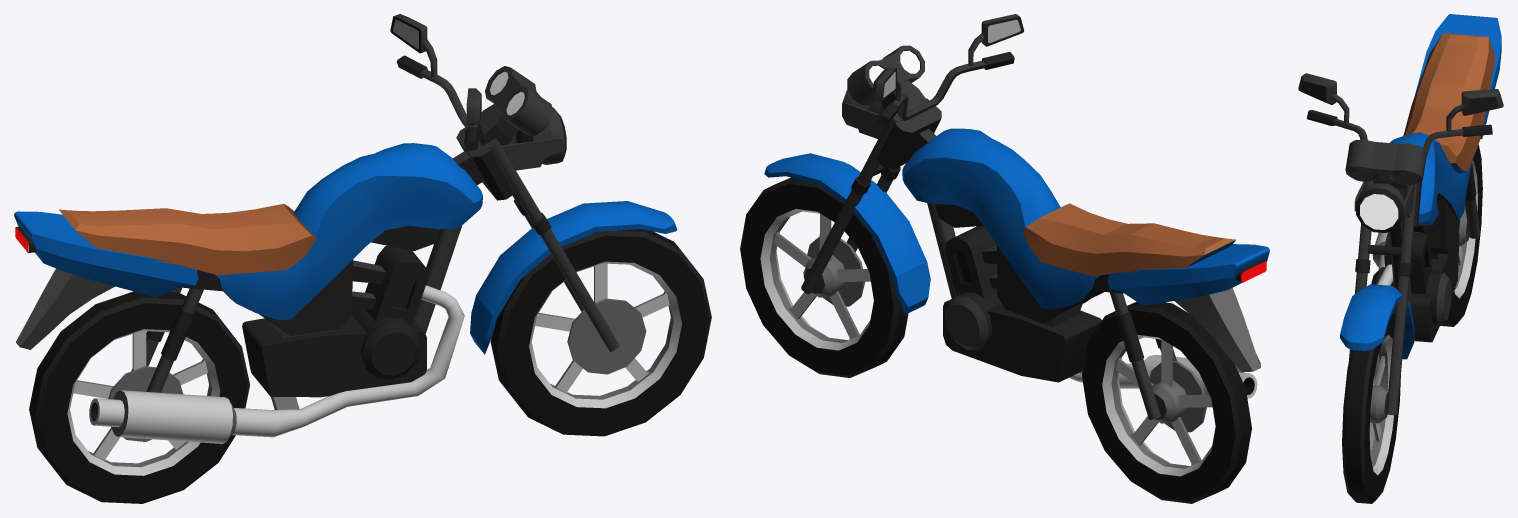
File: Bike_010.glb
The picture shows the model from 3 angles, left to right: view 1: azimuth 30°, elevation 25°; view 2: azimuth 150°, elevation 25°; view 3: azimuth 270°, elevation 25°; orthographic projection. The views are drawn at different scales.
Visible parts, largest first — view 1: Bike_010, wheel_0_Bike_010_Wheel_1R, wheel_1_Bike_010_Wheel_2L; view 2: Bike_010, wheel_0_Bike_010_Wheel_1R, wheel_1_Bike_010_Wheel_2L; view 3: Bike_010, wheel_0_Bike_010_Wheel_1R, wheel_1_Bike_010_Wheel_2L.
Boxes of the visible parts, box(x1,y1,x2,y2) form: Bike_010: box(14, 14, 619, 443); wheel_0_Bike_010_Wheel_1R: box(470, 201, 711, 436); wheel_1_Bike_010_Wheel_2L: box(29, 287, 249, 503); Bike_010: box(801, 14, 1269, 398); wheel_0_Bike_010_Wheel_1R: box(740, 153, 930, 377); wheel_1_Bike_010_Wheel_2L: box(1082, 292, 1251, 503); Bike_010: box(1298, 14, 1503, 415); wheel_0_Bike_010_Wheel_1R: box(1340, 284, 1414, 503); wheel_1_Bike_010_Wheel_2L: box(1441, 144, 1482, 326).
Size of the model in its own units: 2.22 by 1.35 by 0.7249.
2 materials, 2 textured.
